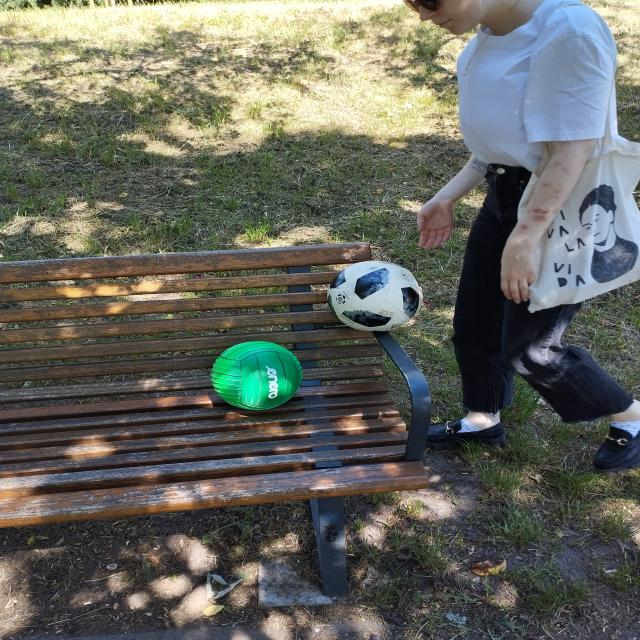nozna: (327, 260, 423, 332)
zielona: (211, 341, 304, 411)
